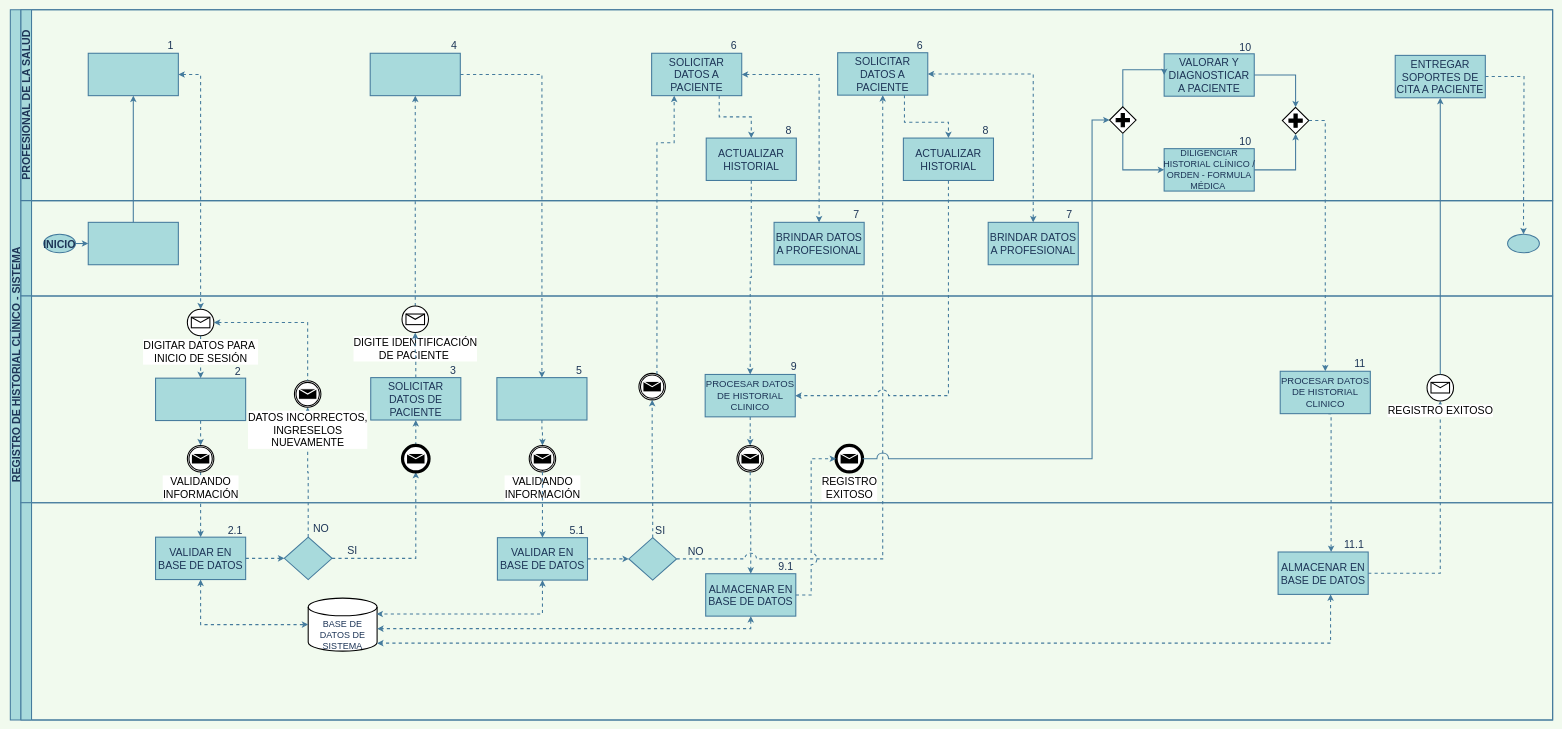
Image size: 1562x729. Some labels were removed from this diagram. The box of each missing label's shape, as (x1, y1, x2, y2) in pixels:
BIENVENIDO: (402, 445, 429, 472)
DIGITAR DATOS PACIENTE: (369, 52, 461, 96)
DILIGENCIAR HISTORIAL NUEVO: (638, 373, 666, 400)
DIRIGIRSE A CONSULTORIO, ESPERAR LLAMADO: (87, 222, 179, 265)
FIN: (1507, 233, 1540, 253)
INGRESAR A PLATAFORMA WEB: (87, 52, 179, 96)
INTERFAZ DE USUARIO: (20, 295, 1553, 503)
PACIENTE: (20, 200, 1553, 296)
PROCESAR DATOS DE PACIENTE: (496, 377, 587, 420)
PROCESAR LOGIN: (155, 377, 246, 421)
REGISTRANDO HISTORIAL: (736, 445, 764, 472)
SISTEMA DE GESTIÓN DE INFORMACIÓN: (20, 502, 1553, 720)
¿HISTORIAL NUEVO?: (628, 537, 677, 580)
¿REGISTRO CORRECTO?: (284, 536, 332, 580)
